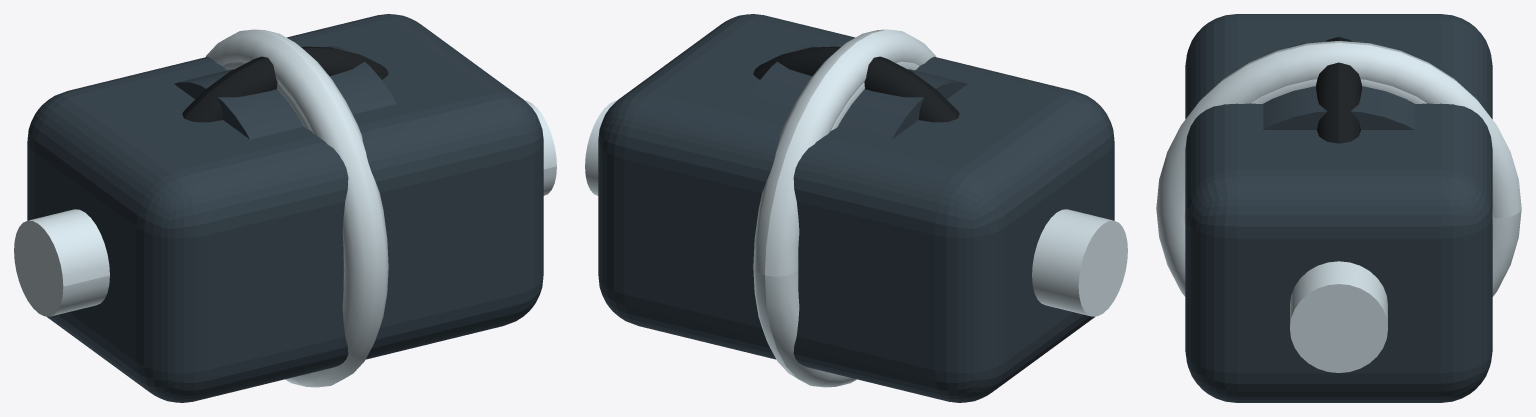
File: g4ed_accessories.glb
The picture shows the model from 3 angles, left to right: view 1: azimuth 30°, elevation 25°; view 2: azimuth 150°, elevation 25°; view 3: azimuth 270°, elevation 25°; orthographic projection.
Parts seen in each view (by area): view 1: asset_mesh__g4ed_356__reference_body, asset_mesh__g4ed_349__reference_rim, asset_mesh__g4ed_356__reference_axis, asset_mesh__g4ed_349__reference_rotor, asset_mesh__g4ed_348__reference_seal; view 2: asset_mesh__g4ed_356__reference_body, asset_mesh__g4ed_349__reference_rim, asset_mesh__g4ed_356__reference_axis, asset_mesh__g4ed_349__reference_rotor, asset_mesh__g4ed_348__reference_seal; view 3: asset_mesh__g4ed_356__reference_body, asset_mesh__g4ed_349__reference_rim, asset_mesh__g4ed_356__reference_axis, asset_mesh__g4ed_349__reference_rotor, asset_mesh__g4ed_348__reference_seal, asset_mesh__g4ed_355__reference_rim.
Part boxes in pixels (x1=…): asset_mesh__g4ed_356__reference_body: x1=27, y1=14, x2=543, y2=402; asset_mesh__g4ed_349__reference_rim: x1=206, y1=29, x2=388, y2=387; asset_mesh__g4ed_356__reference_axis: x1=14, y1=100, x2=556, y2=316; asset_mesh__g4ed_349__reference_rotor: x1=174, y1=46, x2=396, y2=139; asset_mesh__g4ed_348__reference_seal: x1=182, y1=46, x2=388, y2=122; asset_mesh__g4ed_356__reference_body: x1=598, y1=14, x2=1114, y2=402; asset_mesh__g4ed_349__reference_rim: x1=753, y1=29, x2=935, y2=387; asset_mesh__g4ed_356__reference_axis: x1=585, y1=100, x2=1127, y2=316; asset_mesh__g4ed_349__reference_rotor: x1=745, y1=46, x2=967, y2=139; asset_mesh__g4ed_348__reference_seal: x1=753, y1=46, x2=959, y2=122; asset_mesh__g4ed_356__reference_body: x1=1185, y1=14, x2=1492, y2=402; asset_mesh__g4ed_349__reference_rim: x1=1156, y1=41, x2=1521, y2=296; asset_mesh__g4ed_356__reference_axis: x1=1290, y1=261, x2=1387, y2=372; asset_mesh__g4ed_349__reference_rotor: x1=1263, y1=40, x2=1414, y2=129; asset_mesh__g4ed_348__reference_seal: x1=1316, y1=37, x2=1361, y2=143; asset_mesh__g4ed_355__reference_rim: x1=1184, y1=79, x2=1493, y2=224.
Bounding box in the file's own units: 1.98 × 1.27 × 1.27.
